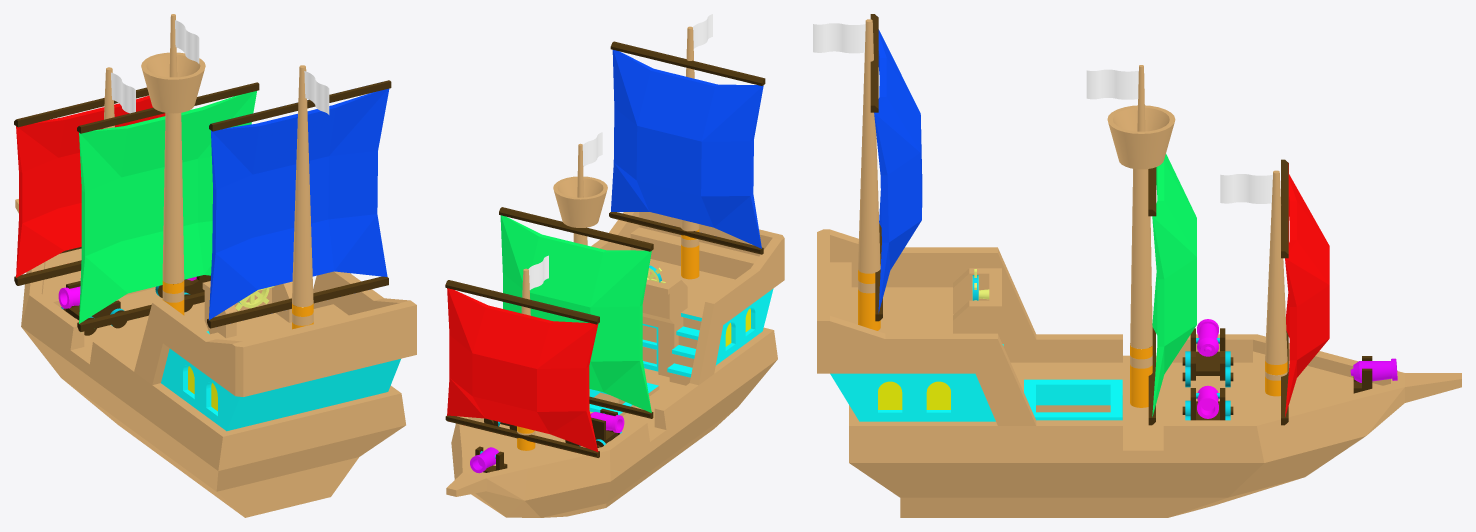
The model's file is ship.glb.
3 renders of one model, left to right at view 1: azimuth 30°, elevation 25°; view 2: azimuth 150°, elevation 25°; view 3: azimuth 270°, elevation 25°, orthographic. The views are drawn at different scales.
Visible parts, largest first — view 1: ship_light_8angles, sail_back_1, sail_middle_1, sail_front_1, cannon_left_1; view 2: ship_light_8angles, sail_back_1, sail_front_1, sail_middle_1, cannon_front_1001, cannon_left_1, cannon_left_1001; view 3: ship_light_8angles, sail_back_1, sail_middle_1, sail_front_1, cannon_left_1, cannon_front_1001, cannon_left_1001.
Part boxes in pixels (x1,y1,x2,y2): ship_light_8angles: (15,14,416,517); sail_back_1: (207,80,391,328); sail_middle_1: (77,82,259,331); sail_front_1: (14,87,165,285); cannon_left_1: (66,281,120,320); ship_light_8angles: (446,14,784,517); sail_back_1: (609,41,765,254); sail_front_1: (445,280,599,457); sail_middle_1: (499,207,653,418); cannon_front_1001: (470,447,498,473); cannon_left_1: (591,408,617,443); cannon_left_1001: (590,412,624,432); ship_light_8angles: (813,19,1461,517); sail_back_1: (870,14,922,321); sail_middle_1: (1148,154,1196,425); sail_front_1: (1281,159,1329,425); cannon_left_1: (1190,328,1225,380); cannon_front_1001: (1350,358,1397,382); cannon_left_1001: (1197,319,1218,356).
Size of the model in its own units: 2.85 by 6.55 by 8.1.
